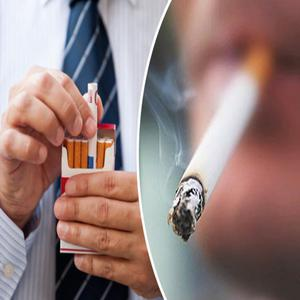cigarette: (164, 36, 270, 240)
